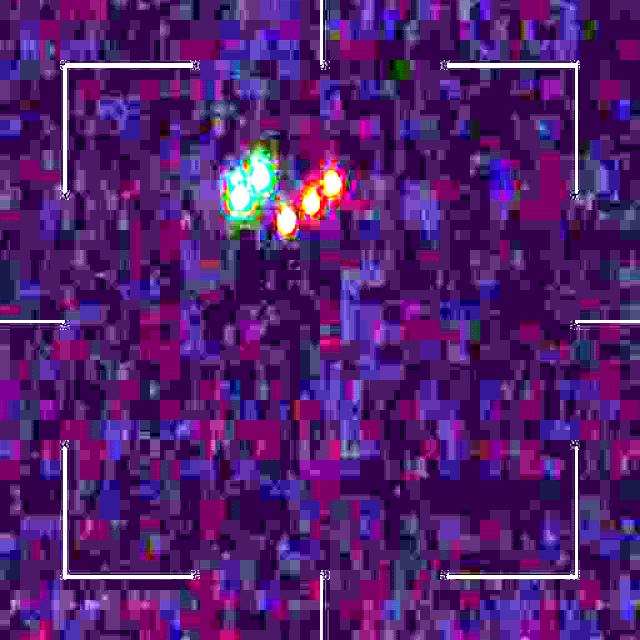bird: (226, 164, 344, 231)
